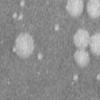white: (12, 32, 35, 58), (72, 48, 90, 70), (65, 0, 85, 18), (73, 29, 89, 50), (88, 32, 100, 58), (86, 0, 100, 19), (37, 53, 43, 60), (17, 13, 23, 19), (72, 74, 78, 80), (96, 73, 100, 82), (19, 0, 24, 6), (54, 24, 58, 31), (12, 13, 17, 18)
